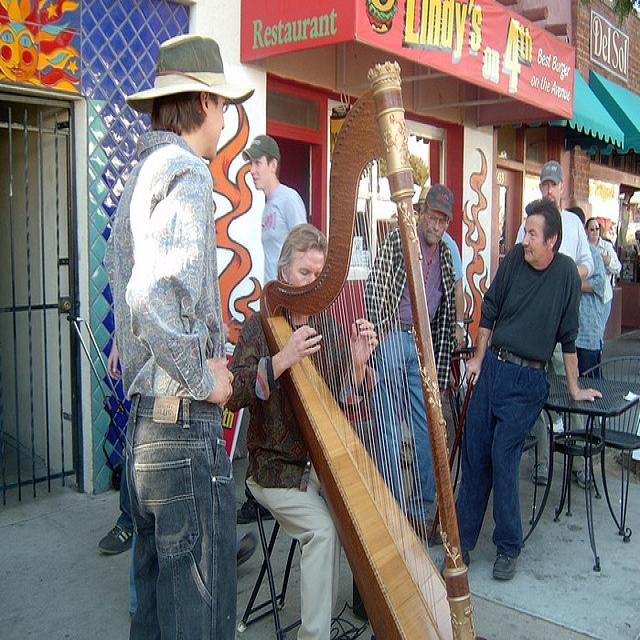harp: (259, 60, 481, 639)
